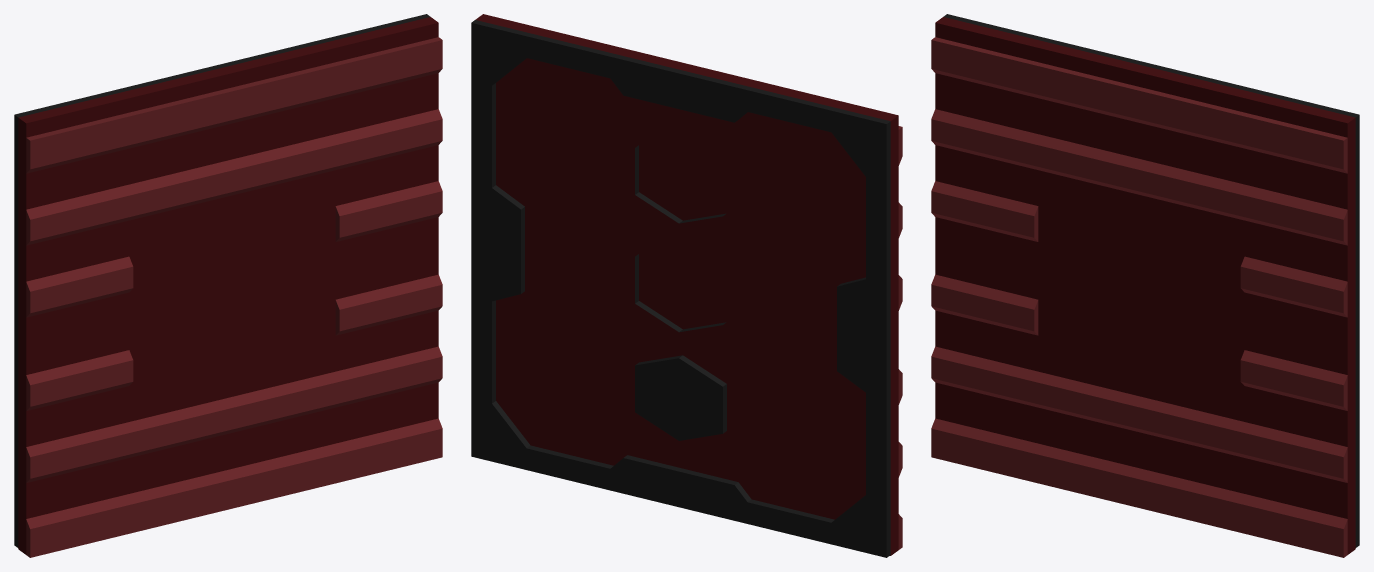
Rendered from Small_Wall_Ex.glb.
3 renders of one model, left to right at view 1: azimuth 30°, elevation 25°; view 2: azimuth 150°, elevation 25°; view 3: azimuth 330°, elevation 25°, orthographic.
Parts seen in each view (by area): view 1: Small_Wall, Small_Interior, Small_Border_Exterior; view 2: Small_Wall, Small_Border_Exterior, Small_Hex, Small_Interior; view 3: Small_Wall, Small_Interior, Small_Border_Exterior.
Boxes of the visible parts, <box> form: Small_Wall: <box>18,17,438,554</box>; Small_Interior: <box>26,37,442,557</box>; Small_Border_Exterior: <box>14,14,430,547</box>; Small_Wall: <box>475,14,898,555</box>; Small_Border_Exterior: <box>471,20,890,557</box>; Small_Hex: <box>635,145,726,440</box>; Small_Interior: <box>898,126,902,549</box>; Small_Wall: <box>935,17,1355,554</box>; Small_Interior: <box>931,37,1347,557</box>; Small_Border_Exterior: <box>943,14,1359,547</box>.
Bounding box in the file's own units: 6 × 6 × 0.4.
